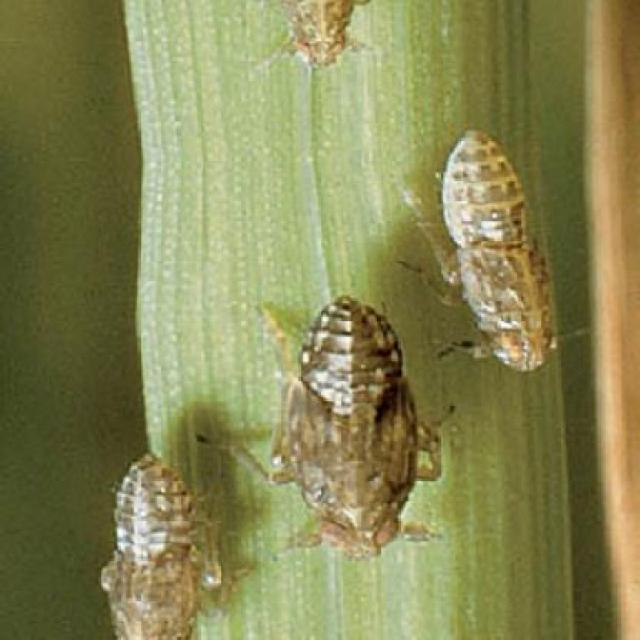brown-planthopper: (243, 291, 448, 560), (432, 118, 568, 376), (87, 444, 223, 640)
